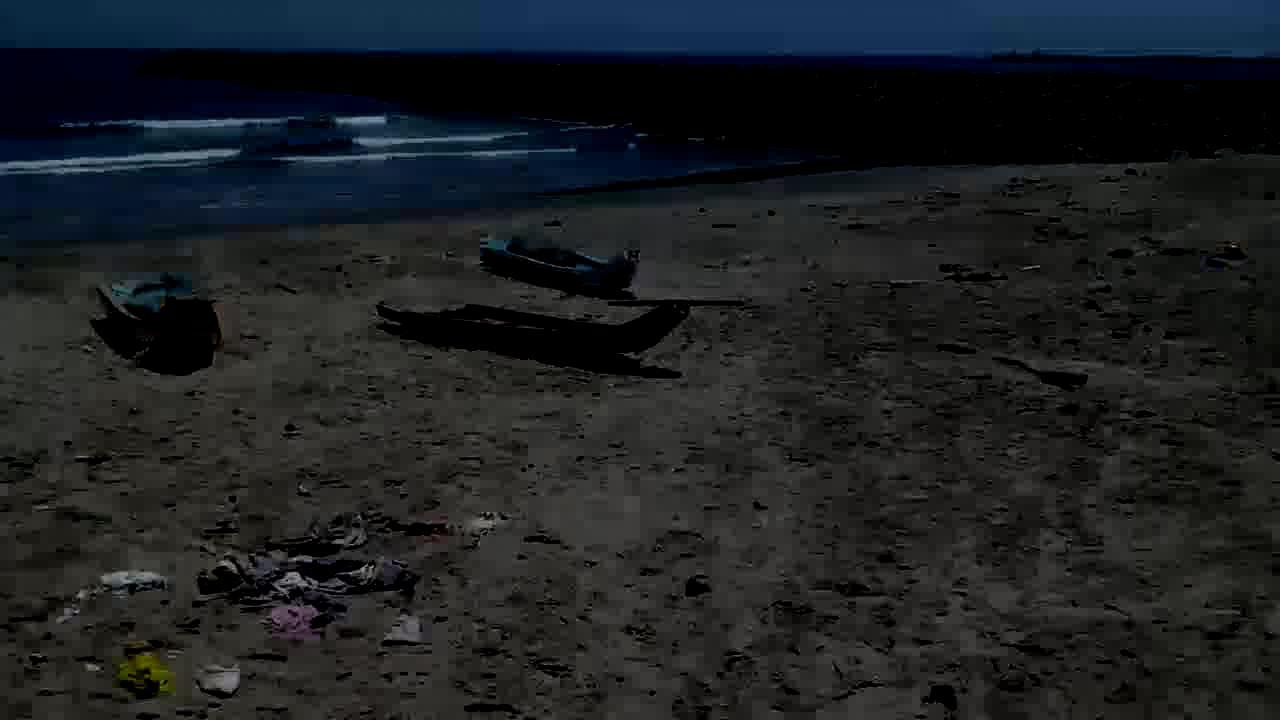large collection of objects: (383, 297, 696, 368), (98, 272, 214, 364), (480, 234, 638, 291)
obj: (187, 512, 418, 641), (932, 338, 1090, 390), (55, 562, 176, 620), (888, 261, 1011, 289), (114, 652, 178, 700), (444, 512, 496, 551), (192, 664, 241, 698), (605, 295, 748, 306), (920, 678, 965, 712), (385, 612, 427, 644), (1207, 237, 1246, 268), (681, 570, 721, 598), (1018, 265, 1039, 274), (1264, 192, 1276, 199), (399, 614, 404, 616)
sand/background: (0, 0, 1279, 244)
